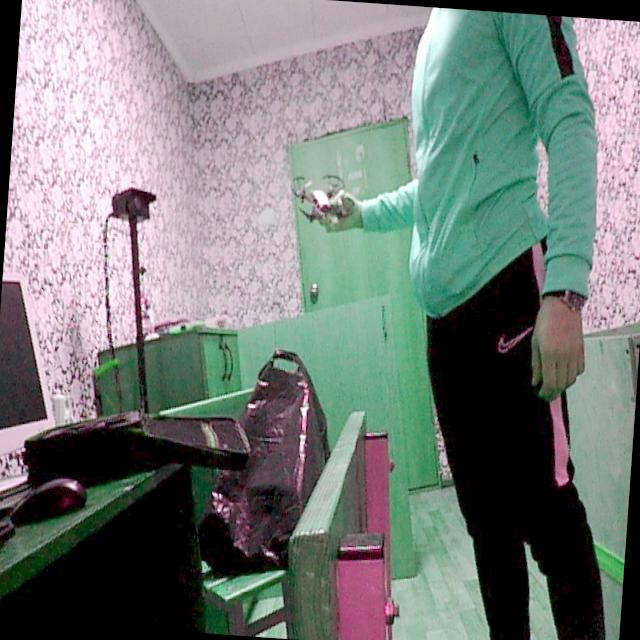drone: (282, 160, 364, 242)
